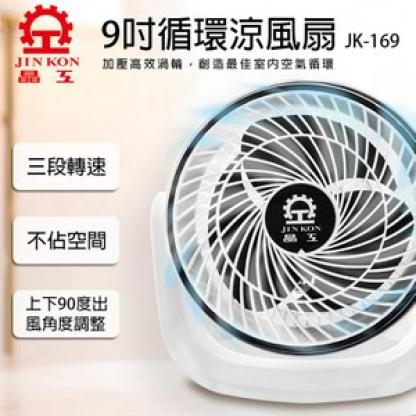fan: (142, 76, 416, 404)
